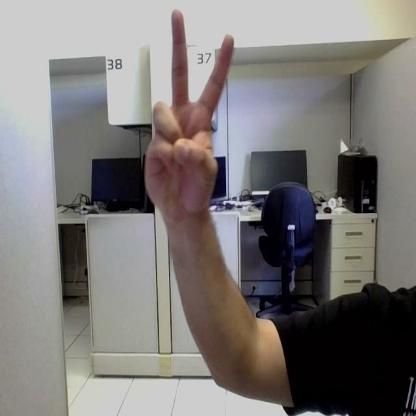V: (145, 9, 233, 216)
